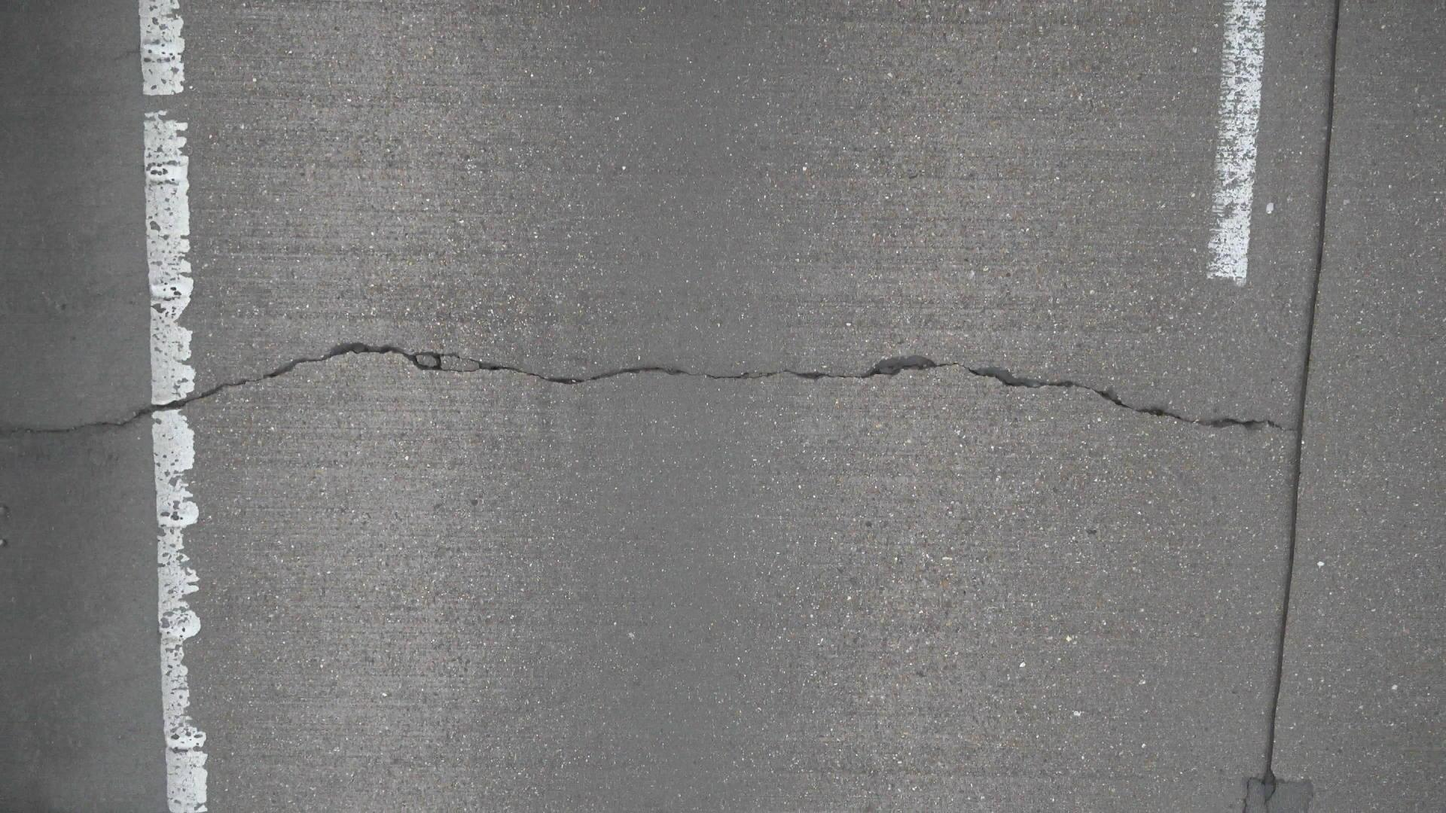GRIETA: (0, 343, 1285, 438), (1258, 0, 1341, 812)
